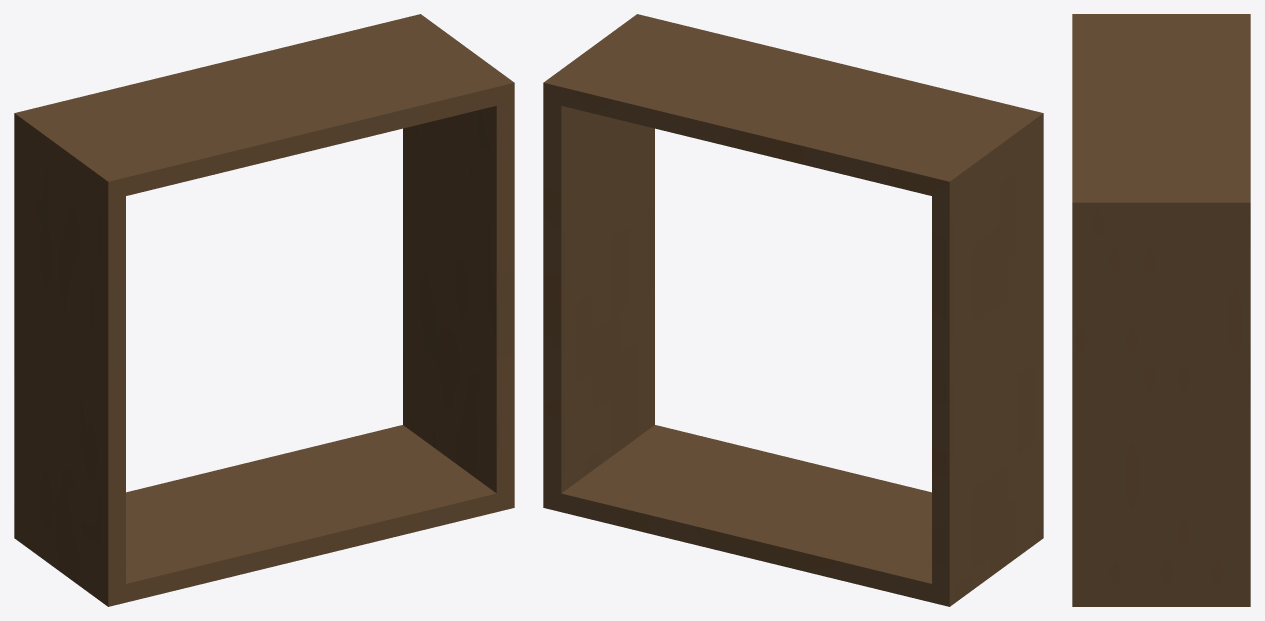
Rendered from Wall_Shelf_02_04.fbx.
3 renders of one model, left to right at view 1: azimuth 30°, elevation 25°; view 2: azimuth 150°, elevation 25°; view 3: azimuth 270°, elevation 25°, orthographic. The views are drawn at different scales.
Visible parts, largest first — view 1: Wall_Shelf_02_04; view 2: Wall_Shelf_02_04; view 3: Wall_Shelf_02_04.
Part boxes in pixels (x1,y1,x2,y2): Wall_Shelf_02_04: (14, 14, 514, 606); Wall_Shelf_02_04: (543, 14, 1043, 606); Wall_Shelf_02_04: (1072, 14, 1250, 606).
Bounding box in the file's own units: 0.744 × 0.744 × 0.2976.
